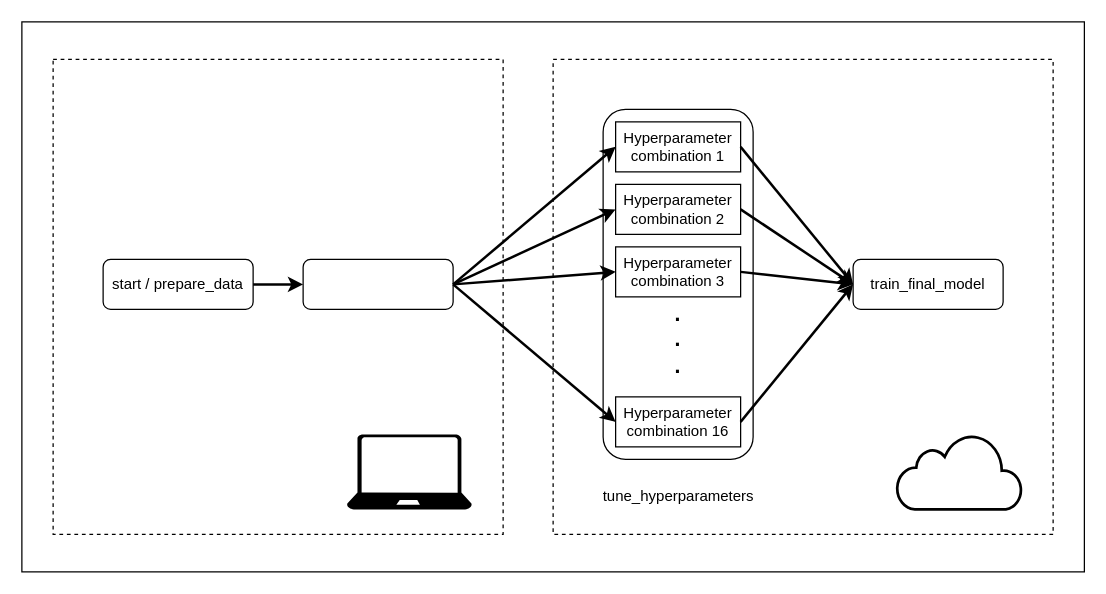
Some shapes in this 1106 by 594 pixel diagram are drawn without their labels. Here are the shapes that lost their labels. From the top down, the centre of each, then its label:
At (x=377, y=283): "configure_model".
At (x=408, y=471): "Runs locally".
At (x=958, y=471): "Runs on AWS Batch".
